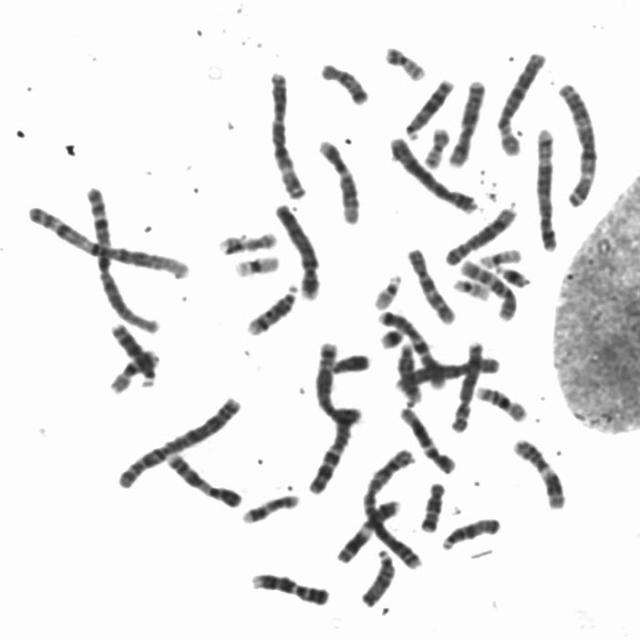A1: (22, 200, 193, 282), (83, 181, 162, 337)
A2: (113, 390, 245, 491), (358, 442, 427, 573)
A3: (553, 76, 602, 209), (264, 66, 309, 201)
B4: (384, 131, 478, 216), (270, 198, 324, 302)
B5: (309, 335, 365, 427), (532, 122, 562, 252)
C10: (403, 244, 458, 326), (456, 254, 520, 323)
C11: (332, 494, 403, 566), (509, 434, 569, 511)
C12: (394, 402, 458, 476), (314, 134, 362, 226)
C6: (491, 46, 549, 158), (393, 353, 502, 397)
C7: (373, 305, 448, 393), (305, 404, 361, 495)
C8: (441, 201, 520, 267), (446, 336, 487, 434)
C9: (163, 448, 245, 509), (247, 567, 333, 607)
D13: (106, 317, 160, 388), (400, 74, 456, 141)
D14: (241, 280, 301, 338), (394, 338, 423, 405)
D15: (357, 545, 398, 609), (437, 513, 503, 552)
E16: (104, 344, 161, 396), (471, 380, 529, 424)
E17: (237, 489, 303, 525), (214, 226, 280, 256)
E18: (315, 57, 371, 106), (416, 478, 448, 534)
F19: (230, 250, 282, 279), (476, 243, 523, 270)
F20: (379, 40, 428, 83), (419, 122, 452, 170)
G21: (492, 259, 532, 289), (374, 323, 408, 349)
G22: (368, 269, 405, 311), (449, 273, 493, 302)
X: (444, 75, 488, 168)
Y: (327, 348, 373, 376)
